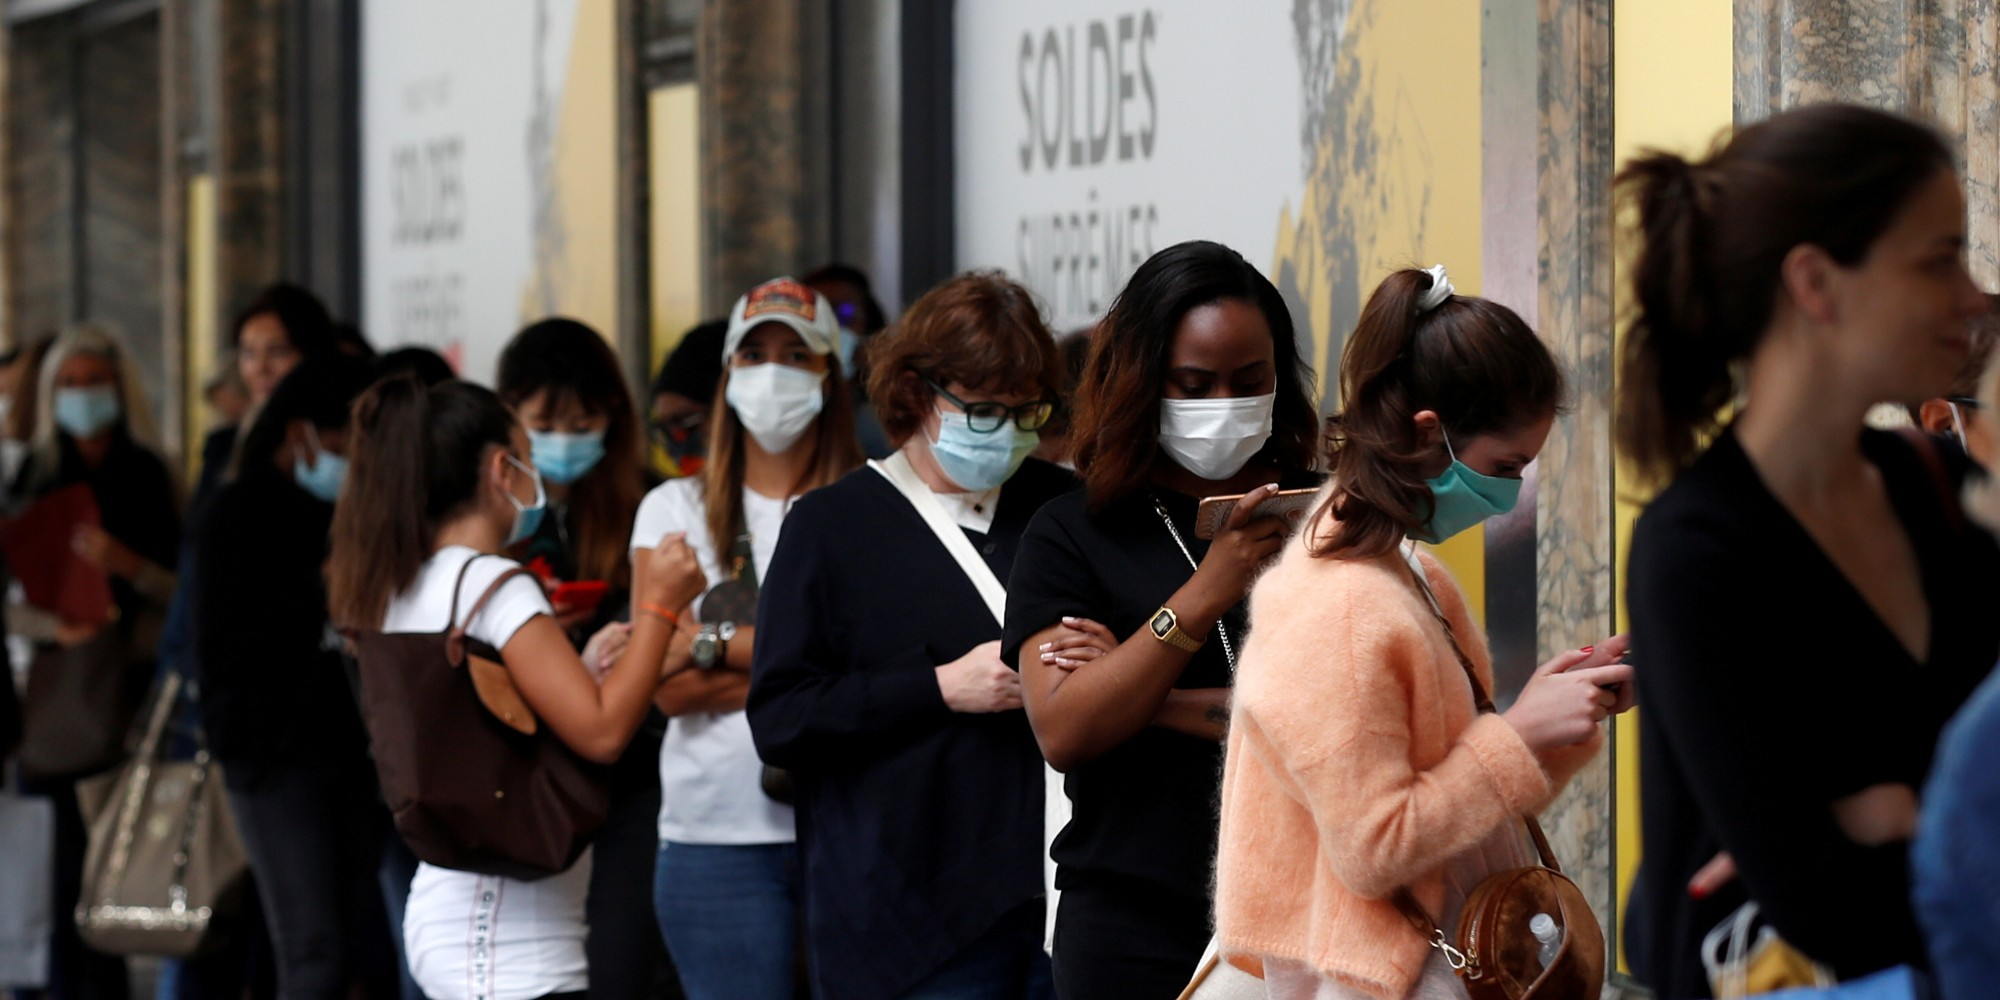with_mask: (1138, 327, 1297, 496), (1413, 374, 1542, 542), (935, 381, 1048, 503), (722, 330, 826, 450), (480, 422, 556, 544), (43, 342, 124, 445), (530, 395, 606, 492)
without_mask: (1824, 198, 2000, 401)
